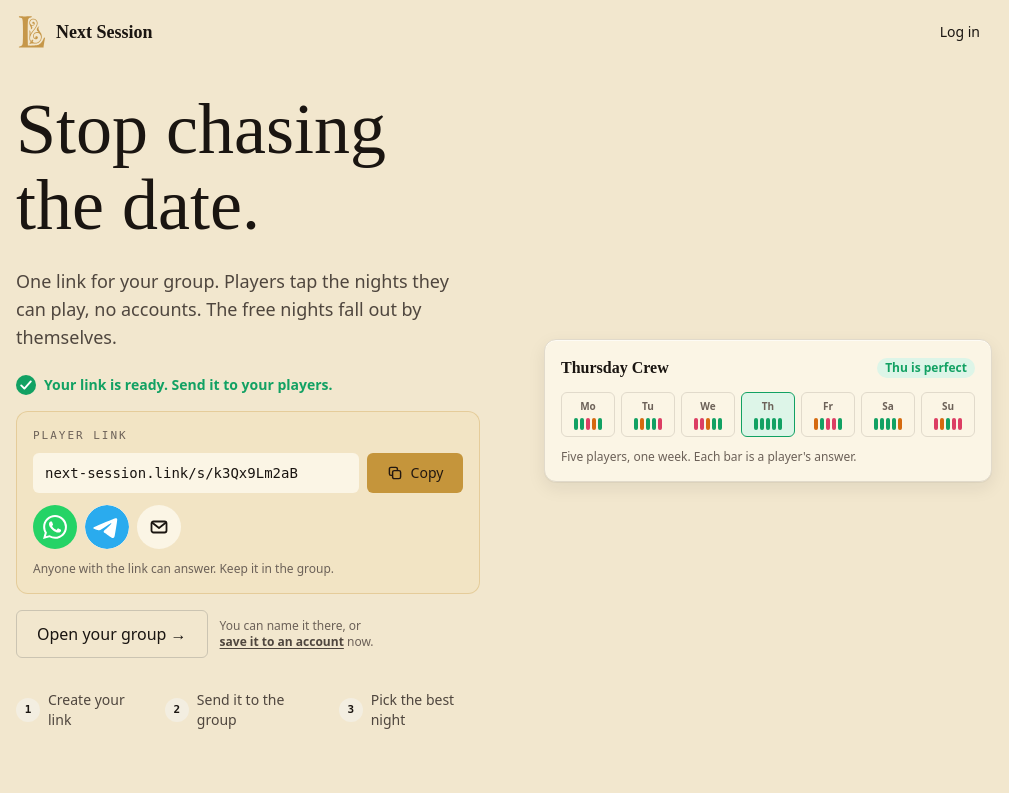
Test: LandingView › counts a copy of the new link as the landing's
Click the button "Copy": (415, 473) [367,453,463,493]
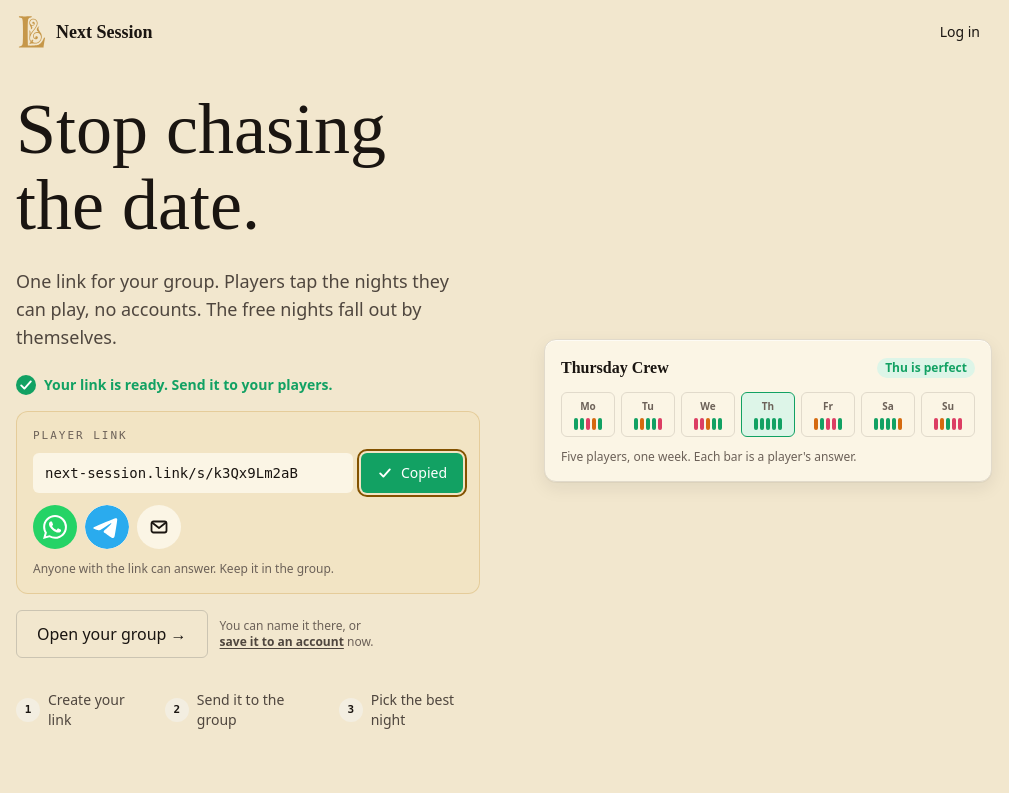
Now the button "Copied" is shown, box [361,453,463,493]
